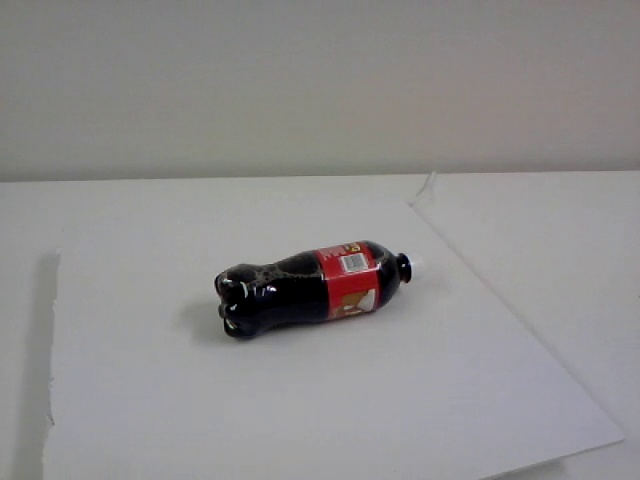botolplastik: (214, 240, 431, 340)
